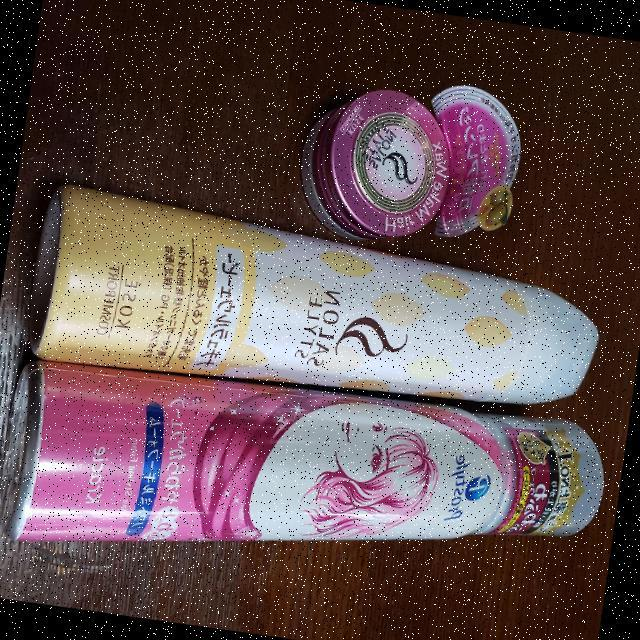chemical_spray_can: (0, 339, 614, 621), (0, 162, 620, 425)
